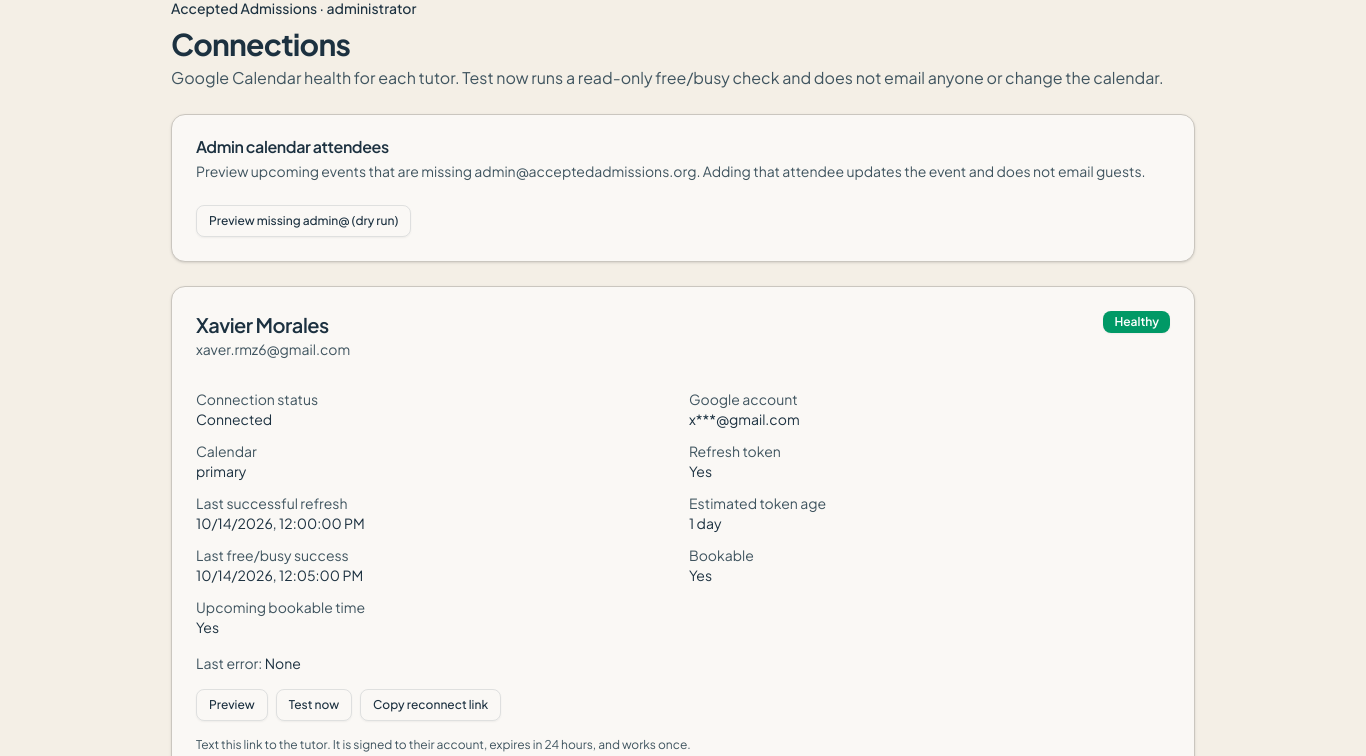
Test: Admin connections › copies an admin reconnect link for the tutor without sending email
What coordinates should you click on to do the following:
click the button with test id "copy-reconnect-link-xavier-profile"
I would click on:
 (431, 705)
Its box is [360,689,501,721].
(page scrolled)
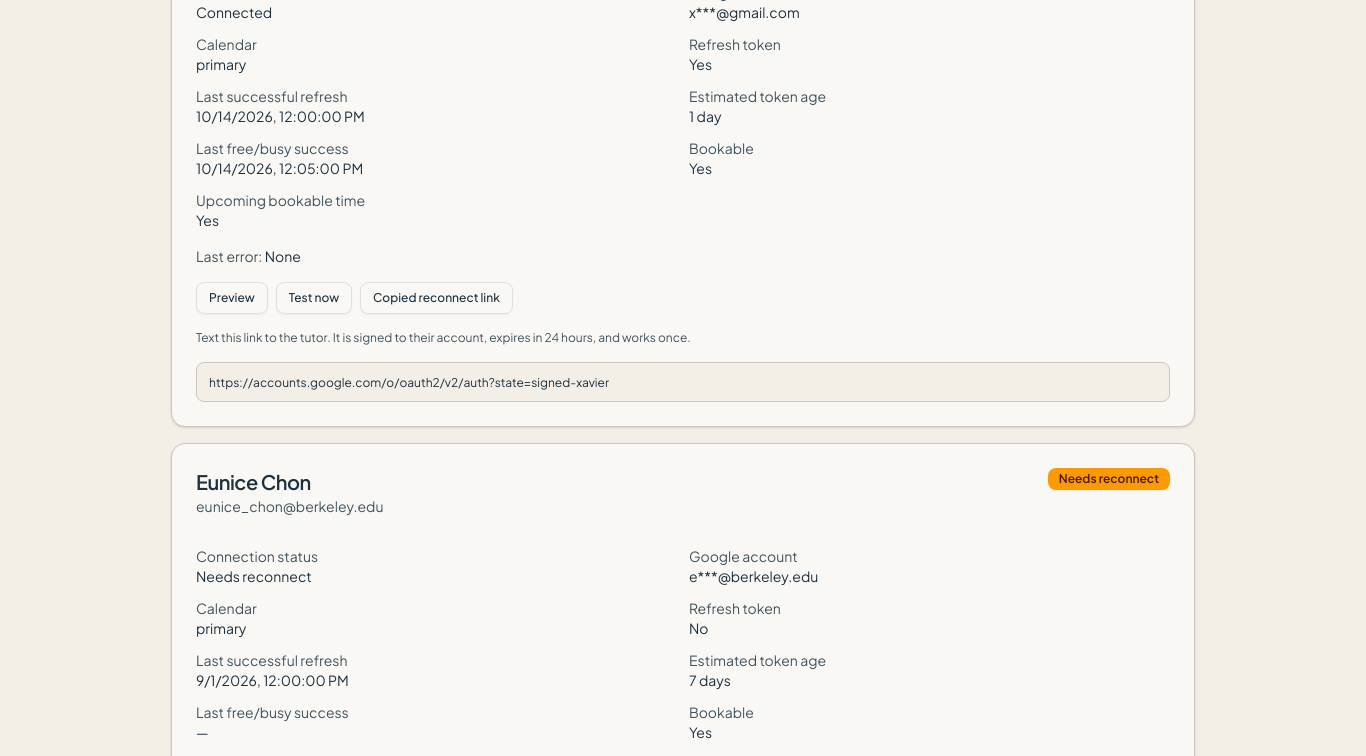
Result: the field with test id "reconnect-link-xavier-profile" holds "https://accounts.google.com/o/oauth2/v2/auth?state=signed-xavier" at [196,362,1170,402]
